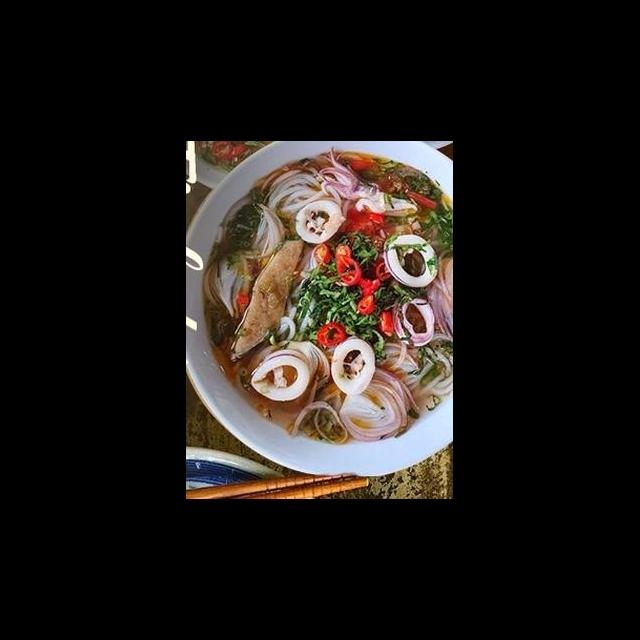bun: (364, 331, 454, 397), (270, 245, 326, 343), (264, 161, 344, 223)
muc: (312, 144, 420, 218), (248, 346, 314, 405), (380, 232, 440, 290), (326, 334, 379, 396), (391, 293, 438, 349), (292, 198, 346, 246)
